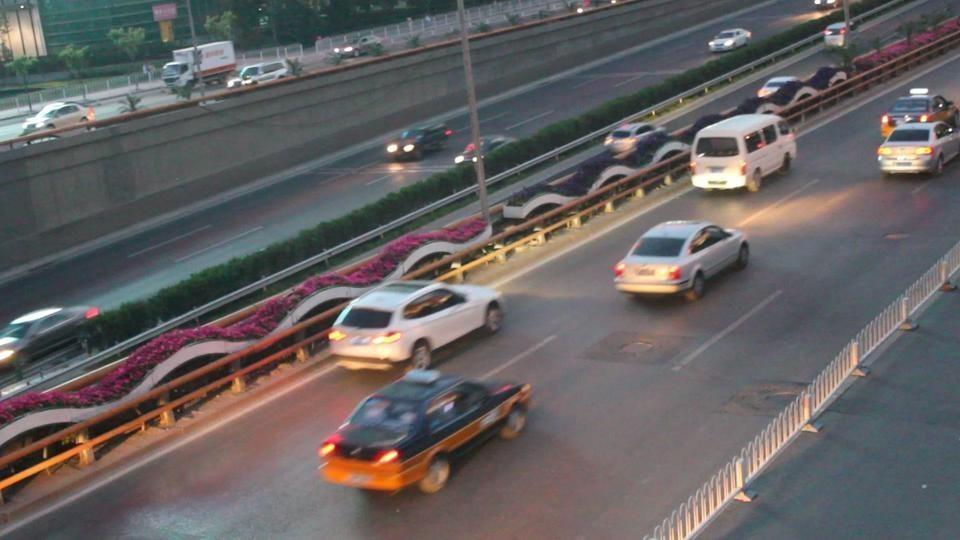car: (316, 367, 533, 497), (328, 279, 505, 370), (612, 219, 751, 303), (502, 150, 643, 226), (688, 113, 798, 194), (0, 306, 99, 372), (878, 115, 960, 178), (602, 122, 681, 164), (383, 121, 462, 163), (750, 76, 819, 122), (882, 90, 954, 133), (19, 102, 92, 141), (455, 134, 516, 166), (225, 62, 291, 90), (707, 28, 752, 53)
